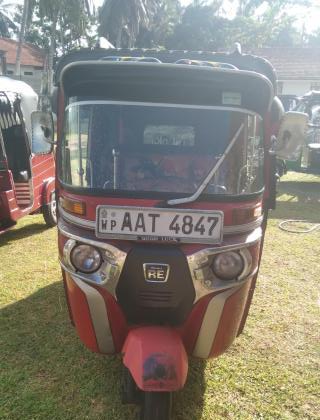threewheel: (28, 46, 309, 420), (1, 75, 57, 240)
